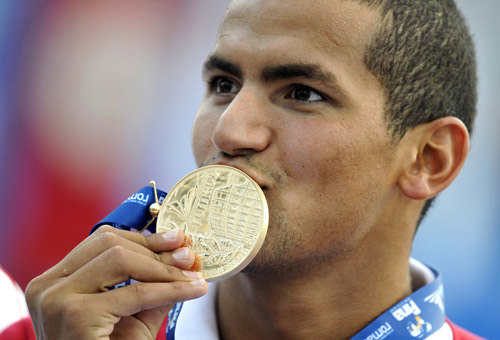face: (189, 1, 411, 267)
